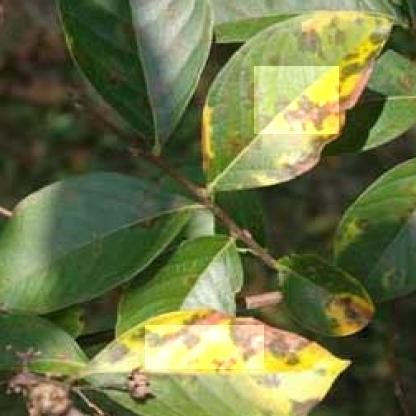black-spot: (254, 66, 339, 134), (145, 325, 264, 369)
